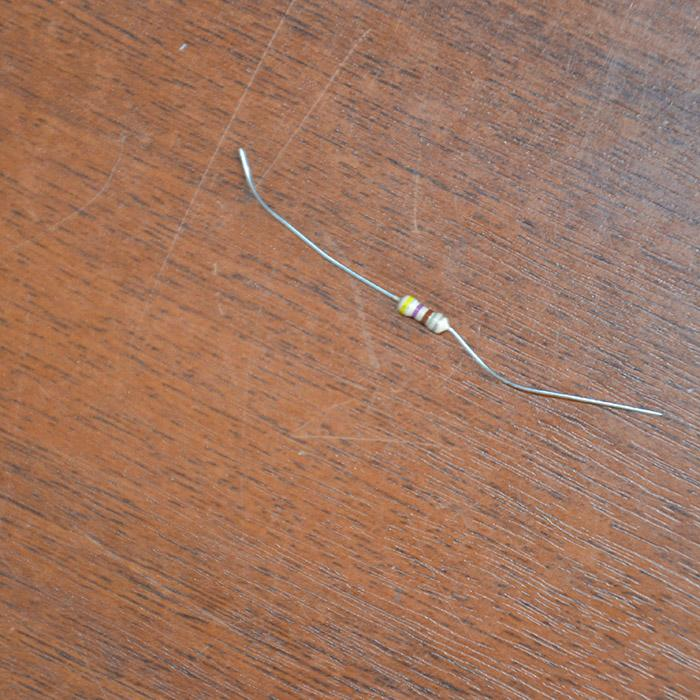resistor: (396, 293, 449, 334)
